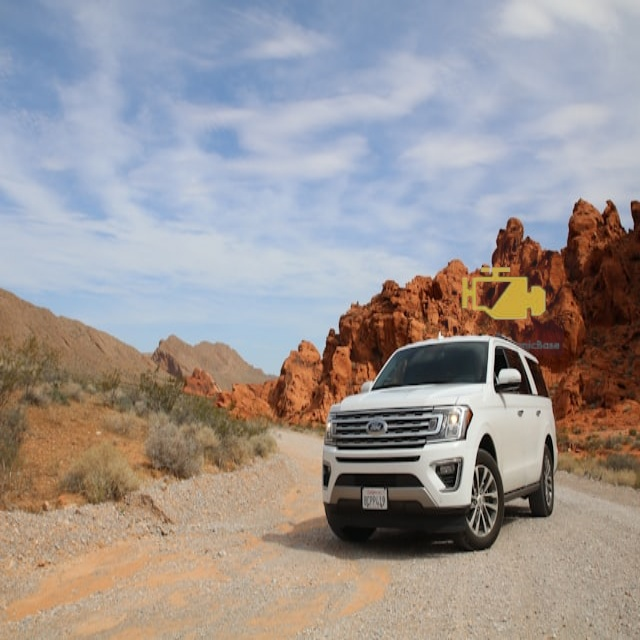symbol: (442, 233, 564, 355)
